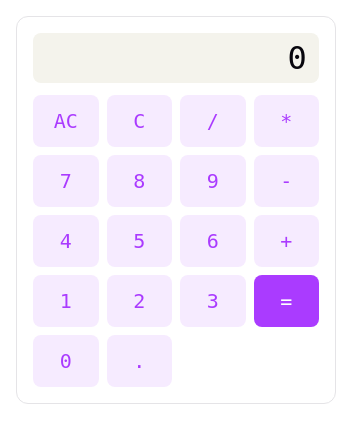
Test: Calculator › handles a decimal point entry
The image size is (353, 421).
What coordinates should you click on to do the following:
click the button "5"
I would click on:
 (139, 241)
Its box is [106,215,172,267].
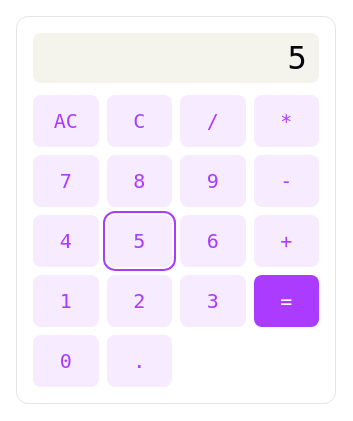
What coordinates should you click on to do the following:
click the button "."
I would click on:
 (139, 361)
Its box is [106,335,172,387].
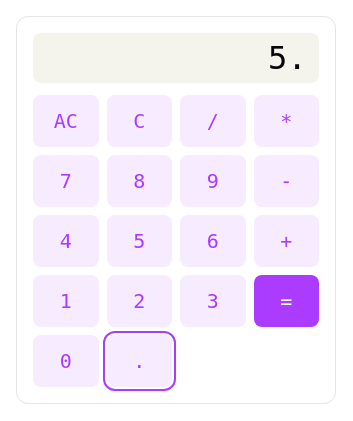
What coordinates should you click on to do the following:
click the button "5"
I would click on:
 (139, 241)
Its box is [106,215,172,267].
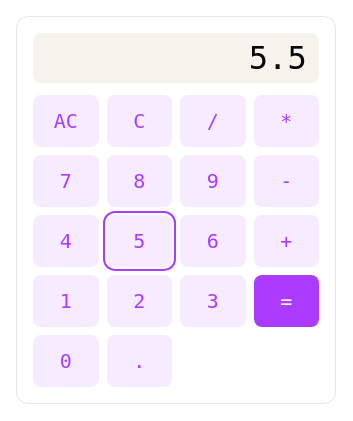
Expected: the text with test id "calculator-display" reads "5.5", [249,39,307,77]
